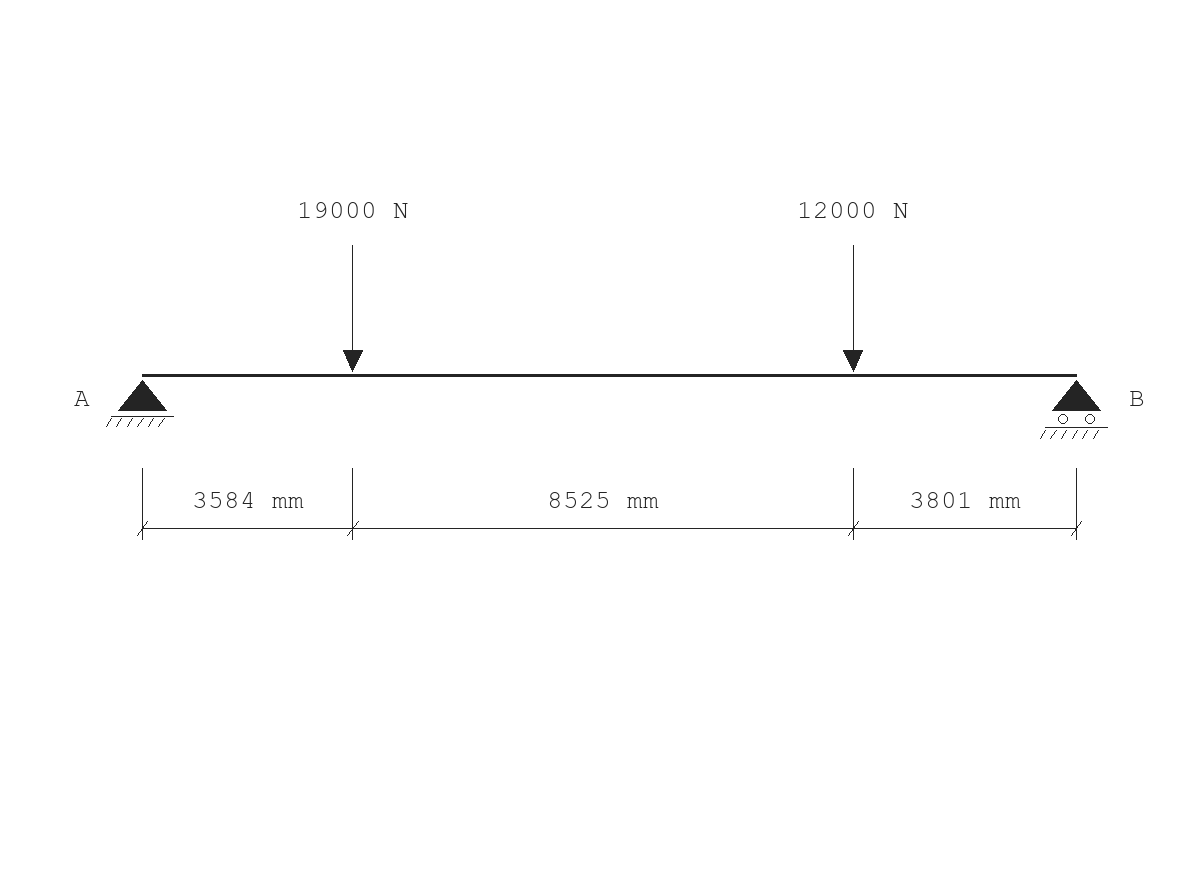pin_support: (106, 380, 174, 427)
point_load: (343, 245, 363, 372), (843, 245, 863, 372)
roller_support: (1040, 380, 1108, 439)
